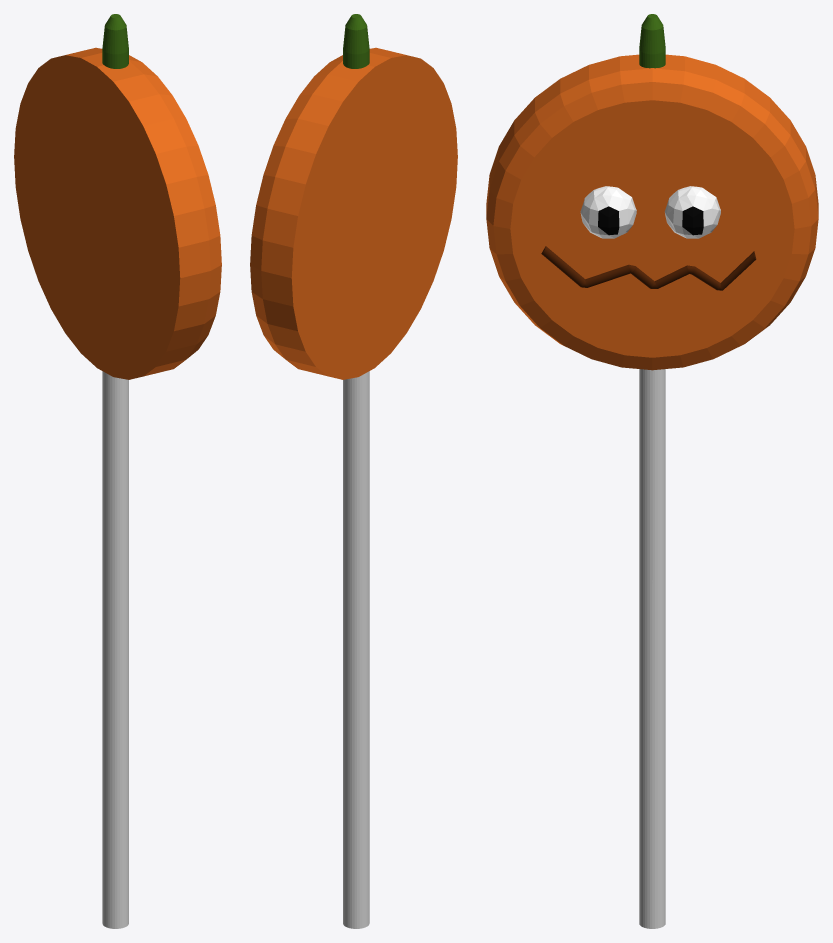
The model's file is Candy_4.fbx.
The picture shows the model from 3 angles, left to right: view 1: azimuth 30°, elevation 25°; view 2: azimuth 150°, elevation 25°; view 3: azimuth 270°, elevation 25°; orthographic projection.
Visible parts, largest first — view 1: Cylinder, Cylinder.001, Cylinder.002; view 2: Cylinder, Cylinder.001, Cylinder.002; view 3: Cylinder, Cylinder.001, Sphere, Sphere.001, Cylinder.003, Cylinder.002.
Part boxes in pixels (<box>): Cylinder: <box>14,47,221,379</box>; Cylinder.001: <box>102,371,128,928</box>; Cylinder.002: <box>102,14,128,68</box>; Cylinder: <box>250,47,457,379</box>; Cylinder.001: <box>343,371,369,928</box>; Cylinder.002: <box>343,14,369,68</box>; Cylinder: <box>486,54,818,370</box>; Cylinder.001: <box>639,369,665,928</box>; Sphere: <box>580,186,636,238</box>; Sphere.001: <box>664,186,720,238</box>; Cylinder.003: <box>541,246,756,290</box>; Cylinder.002: <box>639,14,665,68</box>.
Size of the model in its own units: 28.29 by 333 by 111.
Materials: 4 (1 with a texture image).
